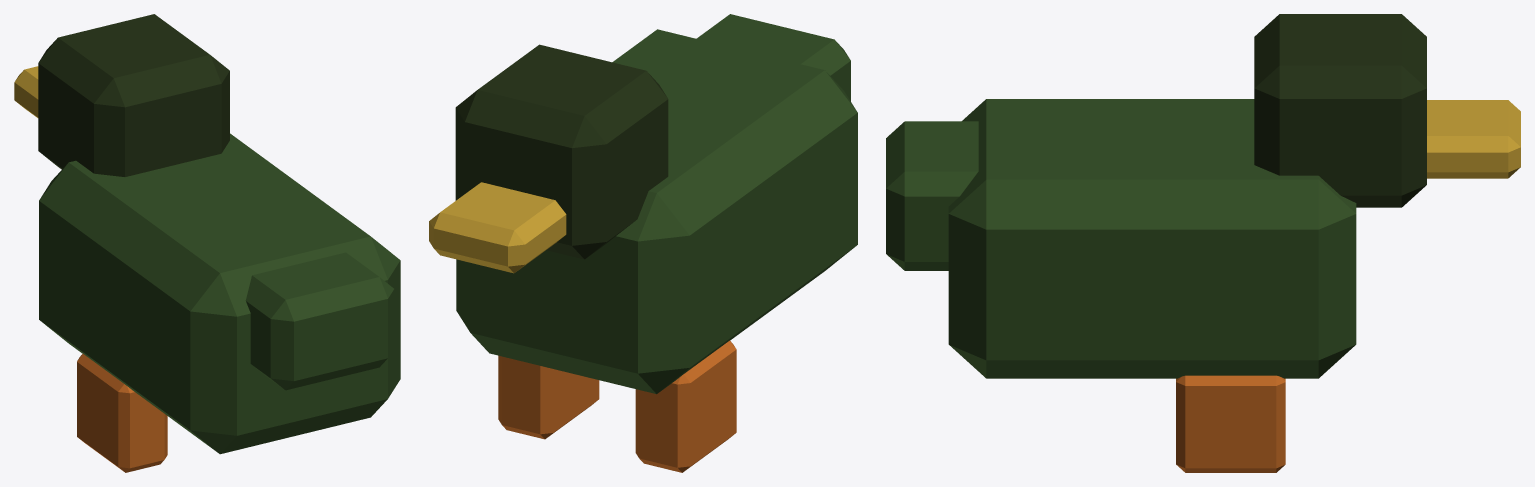
The model's file is Duck.glb.
The picture shows the model from 3 angles, left to right: view 1: azimuth 30°, elevation 25°; view 2: azimuth 150°, elevation 25°; view 3: azimuth 270°, elevation 25°; orthographic projection. The views are drawn at different scales.
Visible parts, largest first — view 1: Body; view 2: Body; view 3: Body.
Boxes of the visible parts, x1,y1,x2,y2 form: Body: (14, 14, 400, 472); Body: (429, 14, 857, 472); Body: (886, 14, 1520, 472).
Size of the model in its own units: 0.85 by 1.37 by 2.02.
